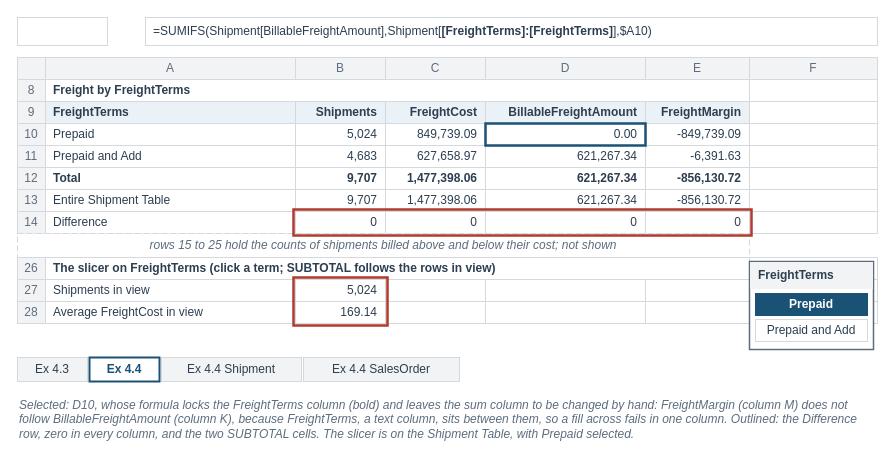
Image size: 895x463. Some labels were removed from this diagram. The centre of each missing label's shape, as x and y in pixels:
"D10" belongs at pixel 62 31.
"fx" belongs at pixel 126 31.
